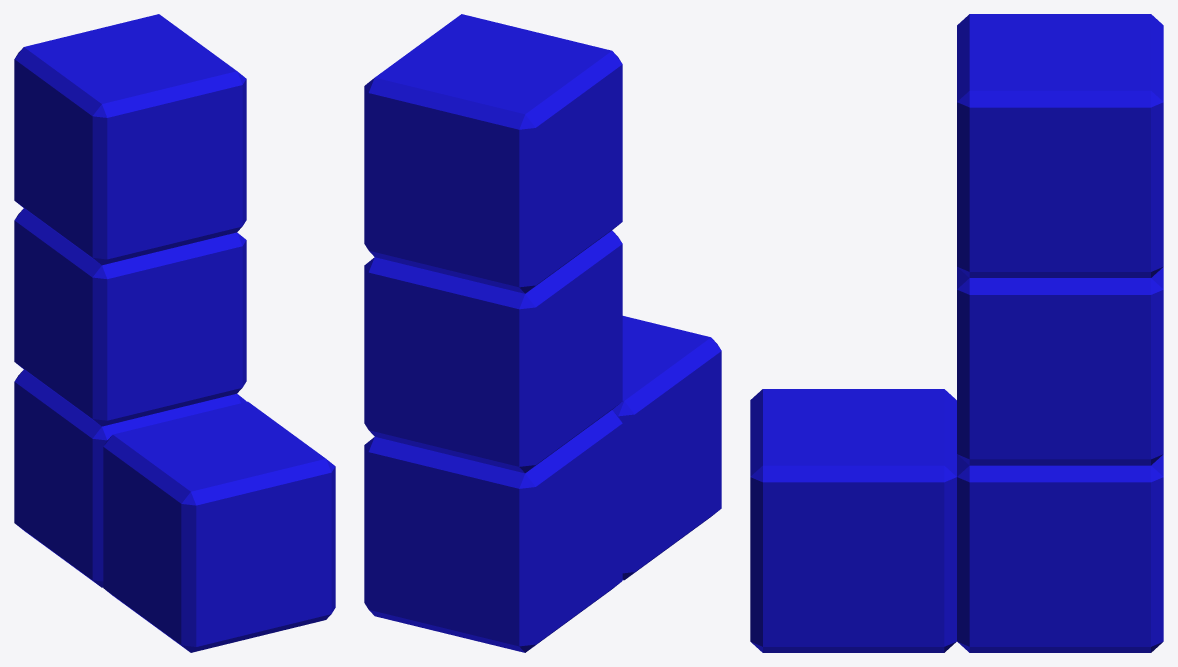
Rendered from TetriminoJ.fbx.
3 renders of one model, left to right at view 1: azimuth 30°, elevation 25°; view 2: azimuth 150°, elevation 25°; view 3: azimuth 270°, elevation 25°, orthographic. The views are drawn at different scales.
Visible parts, largest first — view 1: Cube.001, Cube.003, Cube.002, Cube.000; view 2: Cube.003, Cube.002, Cube.000, Cube.001; view 3: Cube.001, Cube.003, Cube.002, Cube.000.
Boxes of the visible parts, bbox=[...] form: Cube.001: bbox=[103, 401, 335, 652]; Cube.003: bbox=[14, 14, 246, 265]; Cube.002: bbox=[14, 208, 246, 426]; Cube.000: bbox=[14, 370, 246, 587]; Cube.003: bbox=[364, 14, 622, 293]; Cube.002: bbox=[364, 230, 622, 473]; Cube.000: bbox=[364, 410, 622, 652]; Cube.001: bbox=[612, 316, 721, 580]; Cube.001: bbox=[750, 389, 956, 652]; Cube.003: bbox=[957, 14, 1163, 277]; Cube.002: bbox=[957, 267, 1163, 465]; Cube.000: bbox=[957, 454, 1163, 652].
Size of the model in its own units: 200 by 600 by 400.
